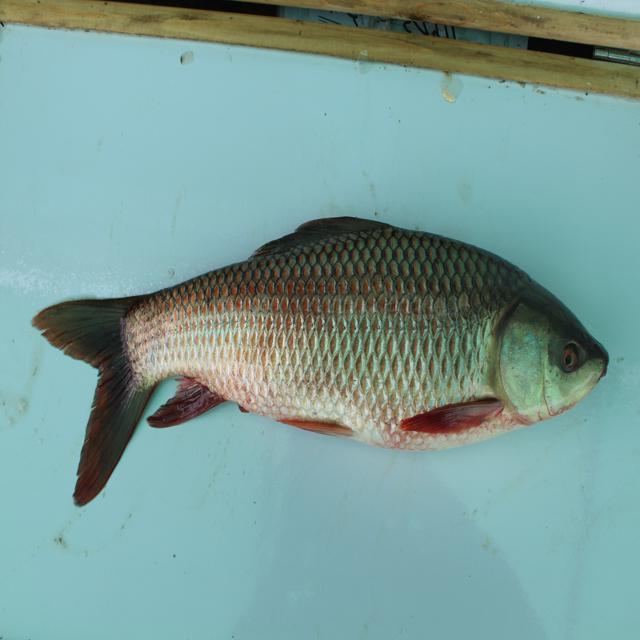Rohu: (25, 208, 634, 516)
